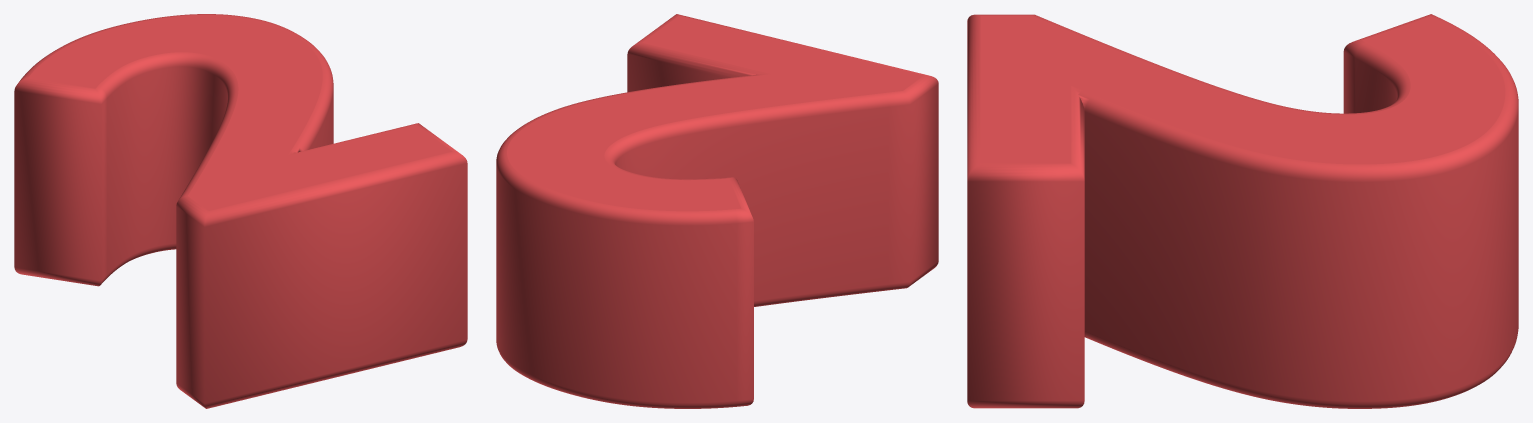
File: MathSymbol_Two.glb
3 renders of one model, left to right at view 1: azimuth 30°, elevation 25°; view 2: azimuth 150°, elevation 25°; view 3: azimuth 270°, elevation 25°, orthographic. The views are drawn at different scales.
Visible parts, largest first — view 1: Text; view 2: Text; view 3: Text.
Part boxes in pixels (bbox=[...]): Text: bbox=[14, 14, 467, 408]; Text: bbox=[496, 14, 938, 408]; Text: bbox=[967, 14, 1518, 408].
Size of the model in its own units: 0.2851 by 0.2 by 0.411.
